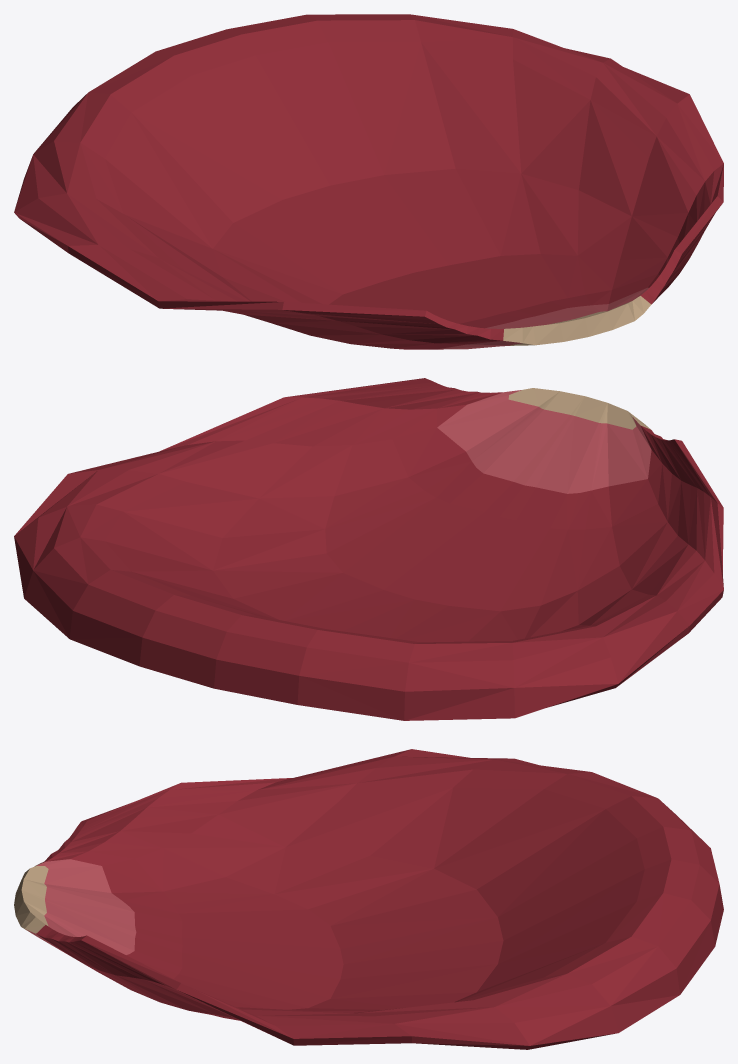
The model's file is fallen-rose-petal-8b0c24.glb.
3 views of the same model, one above another, from view 1: azimuth 30°, elevation 25°; view 2: azimuth 150°, elevation 25°; view 3: azimuth 270°, elevation 25° (orthographic). The views are drawn at different scales.
Visible parts, largest first — view 1: petal-mesh; view 2: petal-mesh; view 3: petal-mesh.
Part boxes in pixels (bbox=[...]): petal-mesh: bbox=[14, 14, 723, 349]; petal-mesh: bbox=[14, 378, 723, 720]; petal-mesh: bbox=[14, 749, 723, 1049].
Size of the model in its own units: 3.94 by 0.728 by 4.12.
